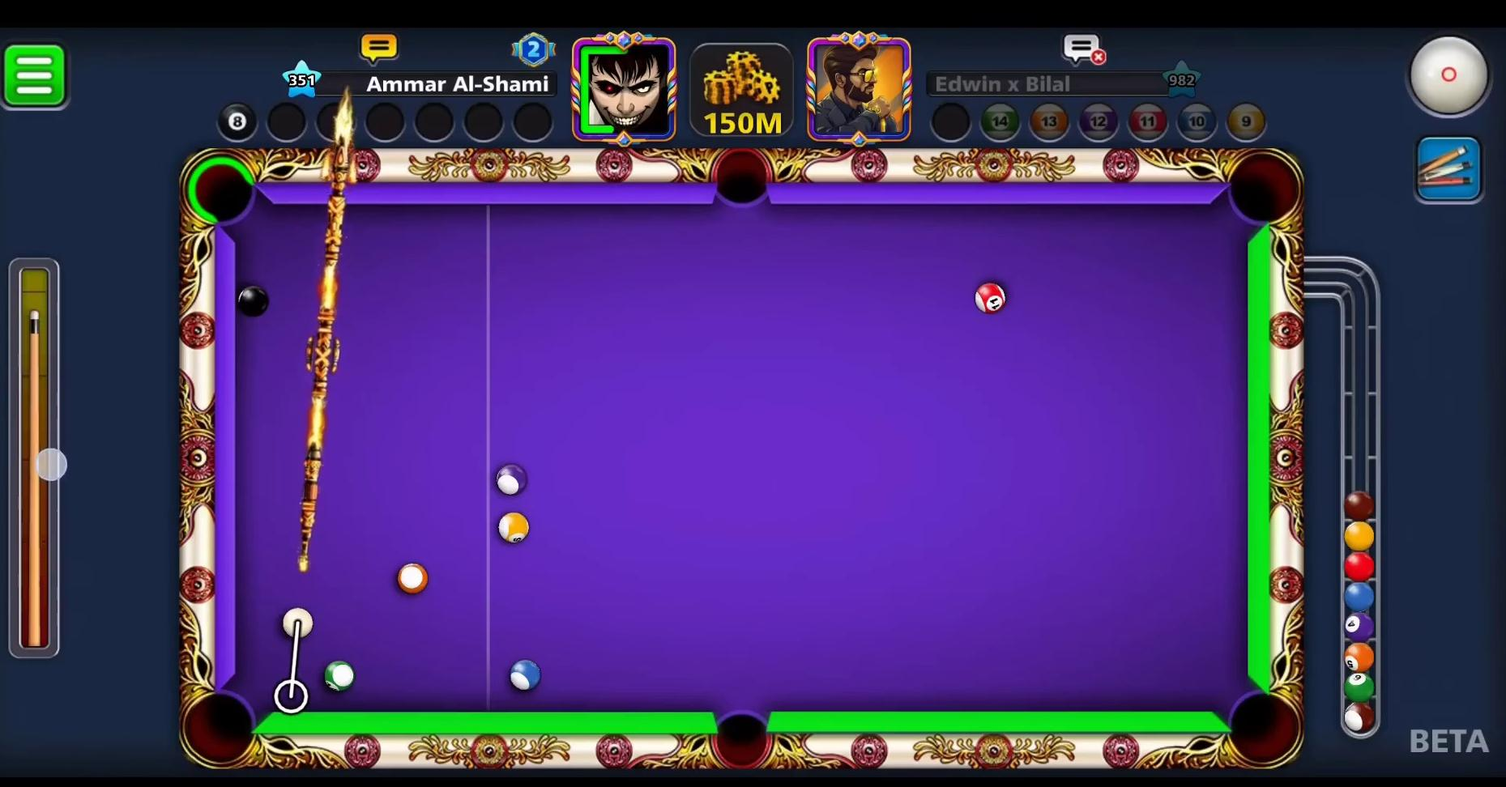Ball: (497, 651, 549, 698), (226, 280, 279, 324), (314, 658, 364, 696), (489, 460, 535, 497), (971, 277, 1009, 320), (494, 509, 535, 545), (393, 562, 433, 598)
Force: (0, 262, 65, 660)
Guideline: (273, 608, 313, 713)
Hole: (1206, 672, 1311, 776), (170, 679, 278, 774), (1217, 143, 1307, 234), (178, 144, 267, 236), (696, 689, 789, 774), (699, 141, 783, 220)
Play_Area: (236, 204, 1244, 719)
Spin: (1402, 28, 1503, 128)
White: (273, 604, 317, 638)
